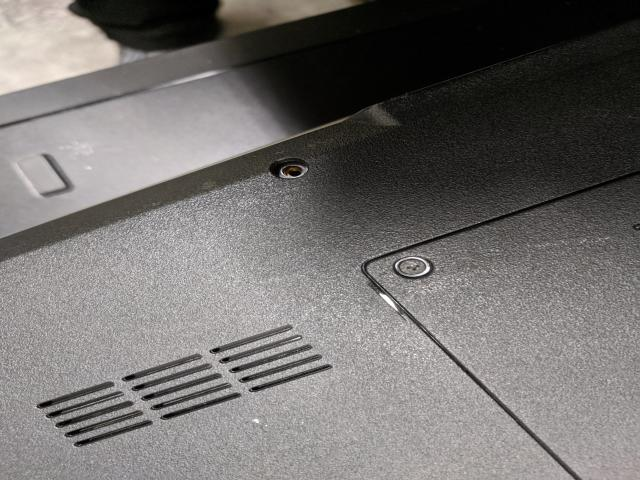CRS: (395, 257, 432, 279)
